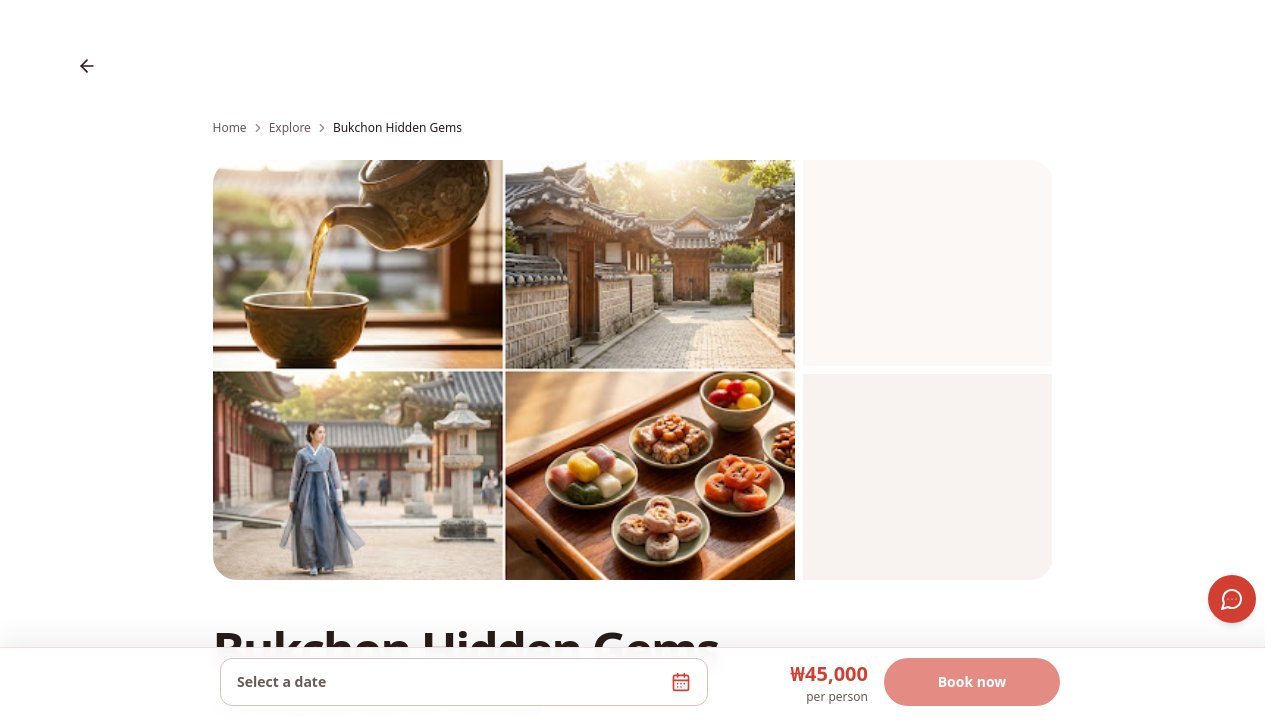
Scenario: ActivityDetailContent › shows only an icon and temperature inside the selected date button, not the time cards
Step 1. Click the button with test id "date-select-box" → (282, 682), box [220,658,708,706]
(page scrolled)
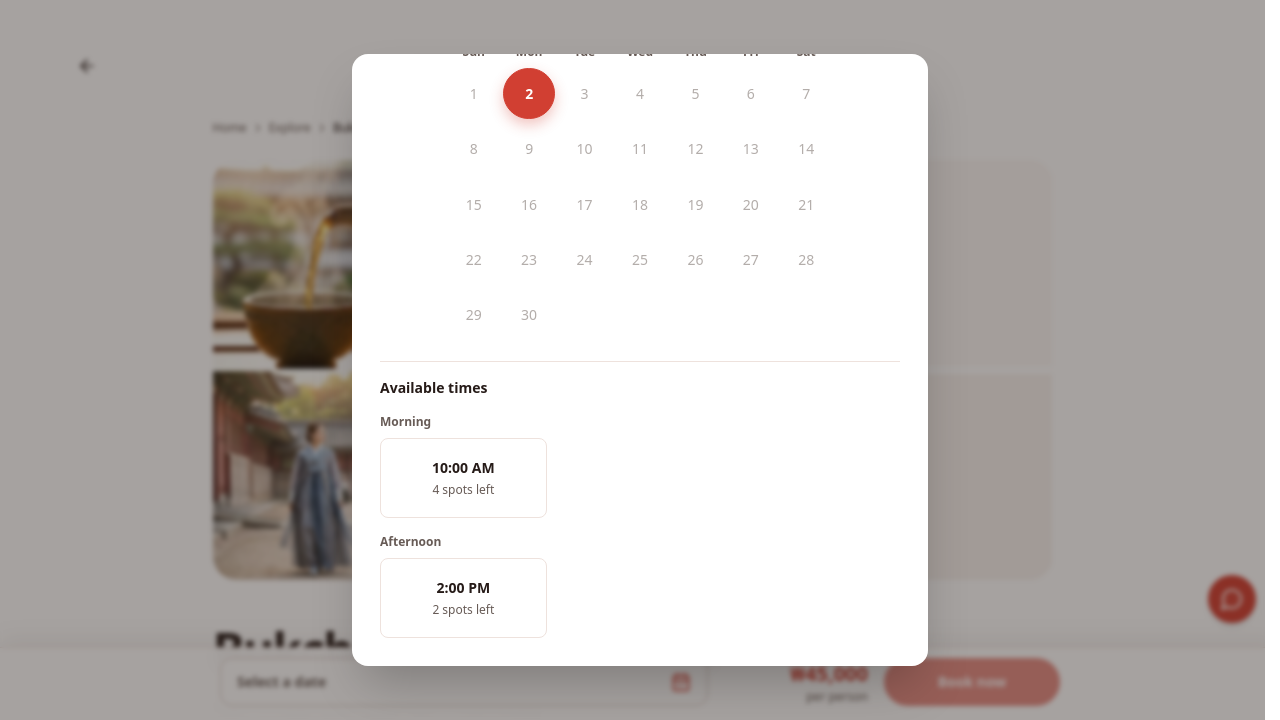
Step 2. Click the button "2:00 PM 2 spots left" → (463, 598), box [380,558,547,638]
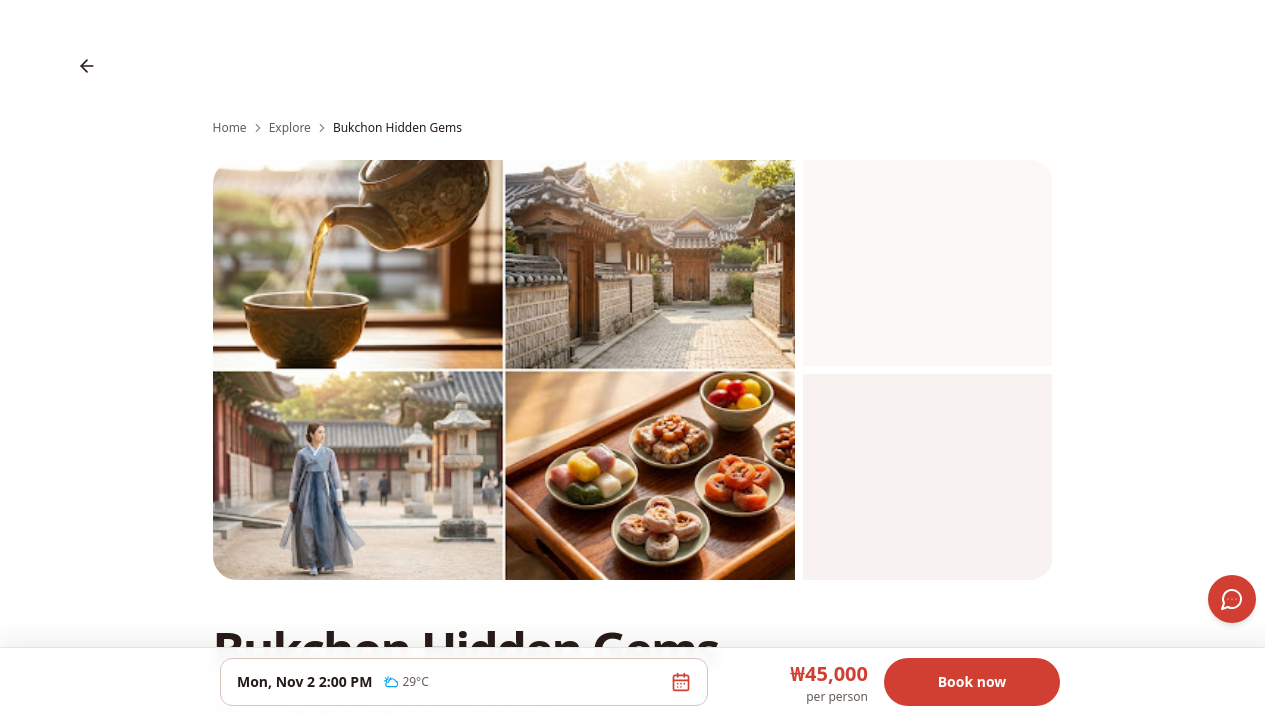
Result: the picture named "Partly cloudy" is shown at [384,675,398,689]
Result: the text "29°C" is shown at [384,674,429,690]
